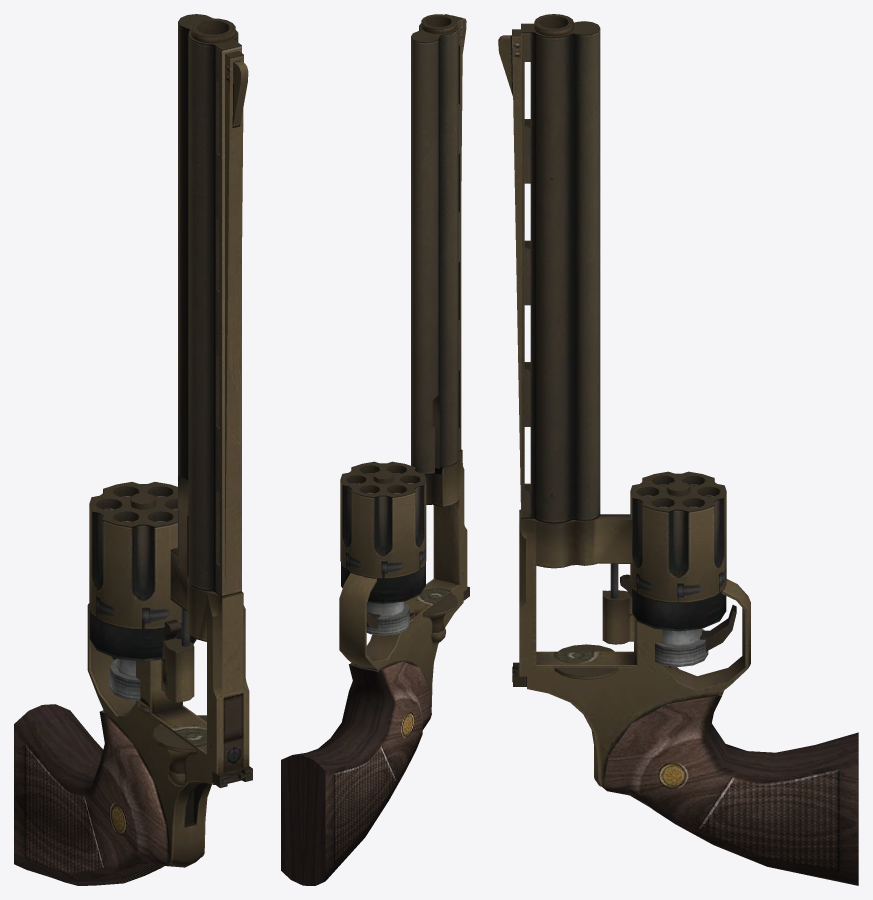
Rendered from ColtPython_Gold.obj.
The picture shows the model from 3 angles, left to right: view 1: azimuth 30°, elevation 25°; view 2: azimuth 150°, elevation 25°; view 3: azimuth 270°, elevation 25°; orthographic projection. The views are drawn at different scales.
Visible parts, largest first — view 1: COLT_PYTHON_BODY, Revolver_cylinder, Model_Magazine, Revolver; view 2: COLT_PYTHON_BODY, Revolver_cylinder, Model_Magazine; view 3: COLT_PYTHON_BODY, Revolver_cylinder, Model_Magazine, Revolver.
Boxes of the visible parts, x1,y1,x2,y2 form: COLT_PYTHON_BODY: [14, 14, 252, 885]; Revolver_cylinder: [89, 482, 181, 629]; Model_Magazine: [89, 606, 196, 700]; Revolver: [161, 608, 194, 703]; COLT_PYTHON_BODY: [281, 14, 469, 885]; Revolver_cylinder: [340, 461, 426, 578]; Model_Magazine: [341, 560, 425, 635]; COLT_PYTHON_BODY: [498, 14, 858, 885]; Revolver_cylinder: [630, 471, 726, 602]; Model_Magazine: [632, 582, 726, 666]; Revolver: [602, 563, 634, 746].
Bounding box in the file's own units: 0.0394 × 0.3904 × 0.1483.
2 materials, 2 textured.
